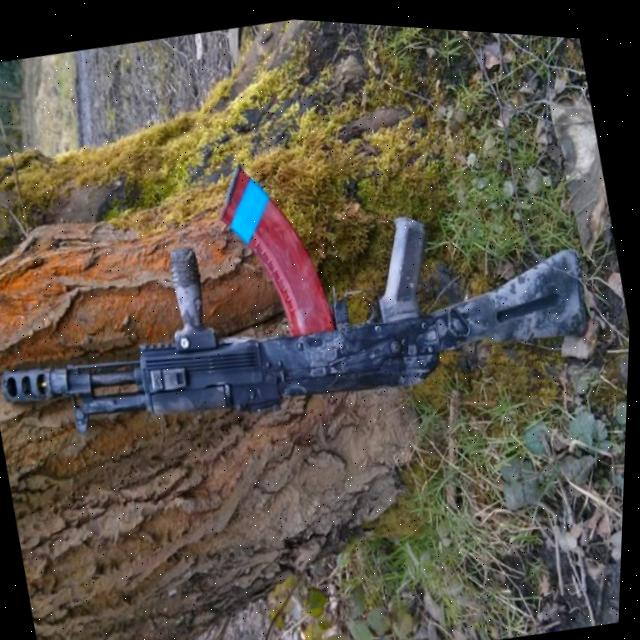firearm: (0, 87, 605, 474)
